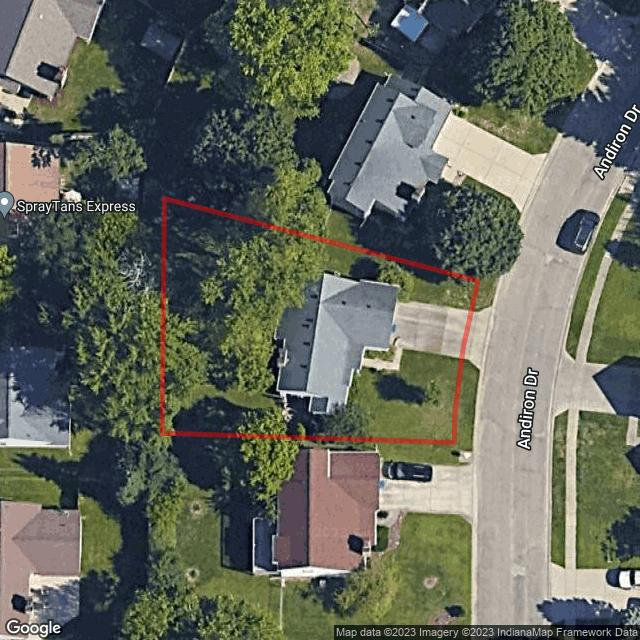Driveway: (362, 301, 469, 371)
Extra Driveway: (465, 307, 492, 370)
Extra Lawn: (457, 359, 480, 444), (474, 281, 497, 312)
House: (272, 274, 398, 414)
